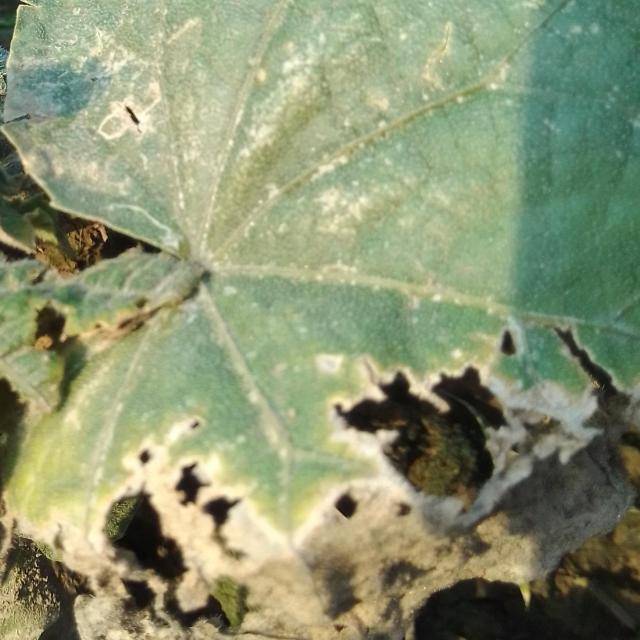cucumber_anthracnose: (2, 57, 619, 605)
